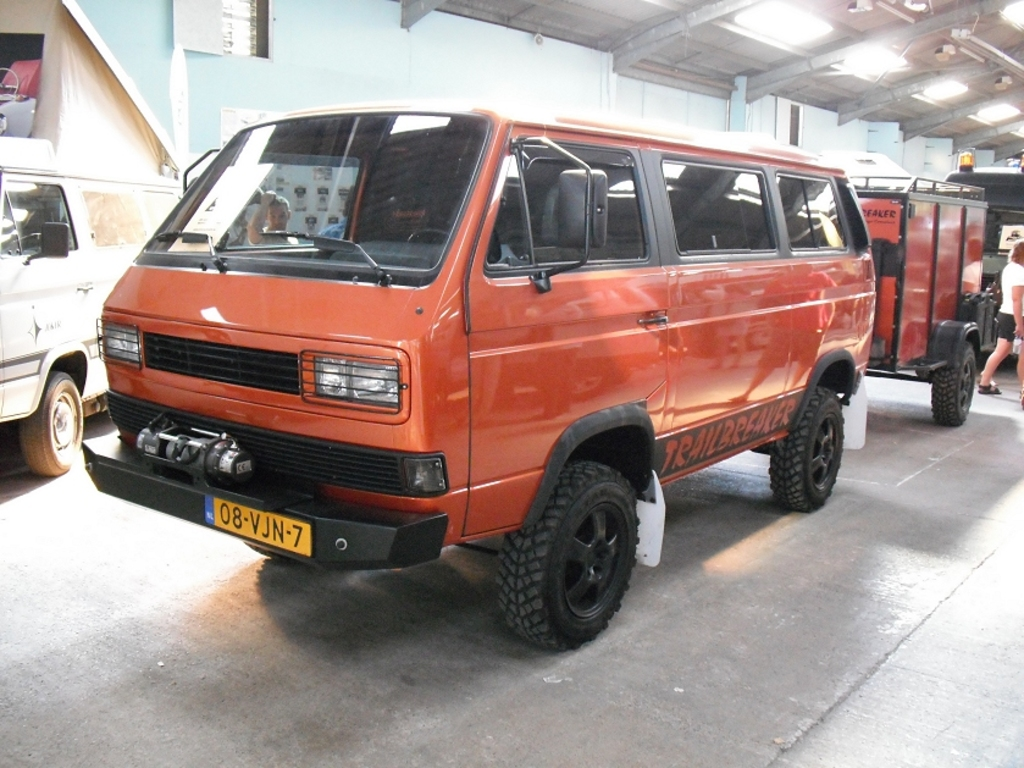Person: (977, 239, 1023, 411)
